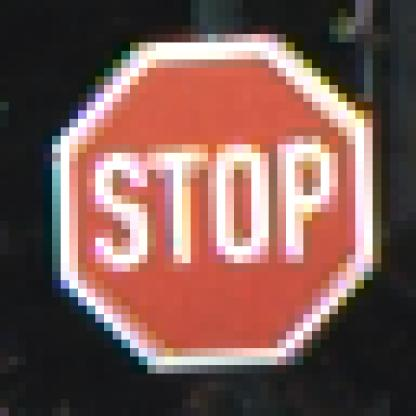Stop: (64, 45, 367, 365)
